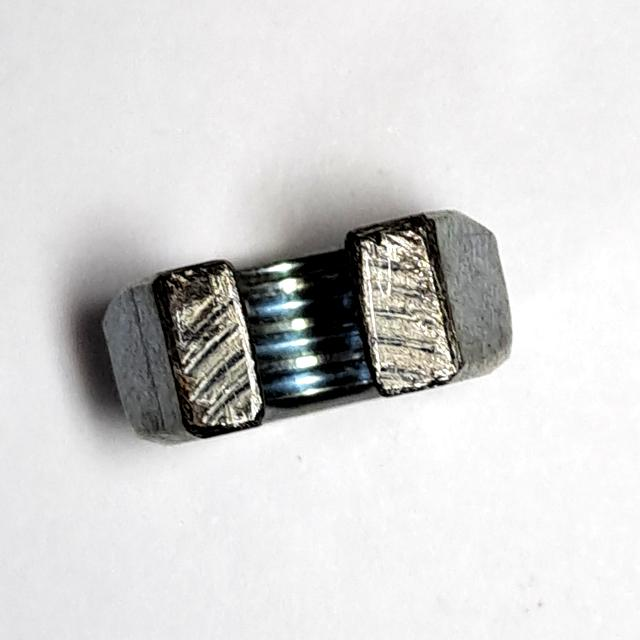Side-Fracture: (94, 201, 527, 457)
